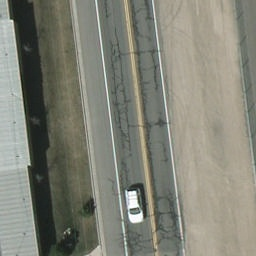car: (125, 189, 147, 223)
